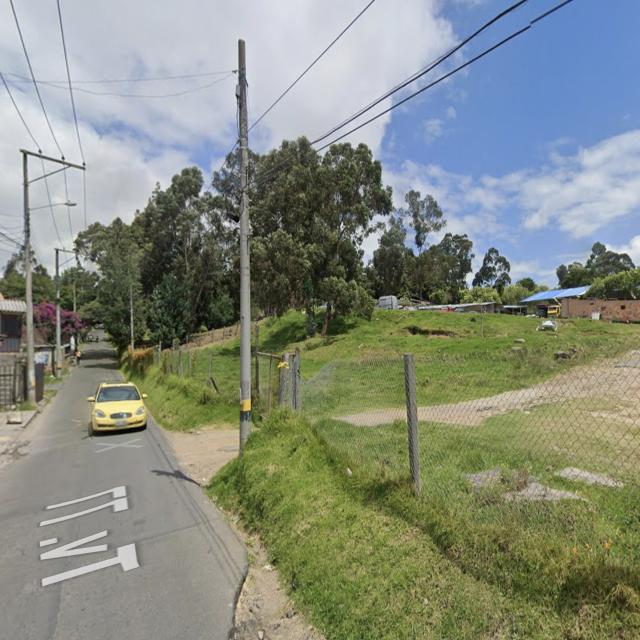Poste: (237, 39, 251, 456), (21, 150, 36, 401), (55, 248, 64, 377)
